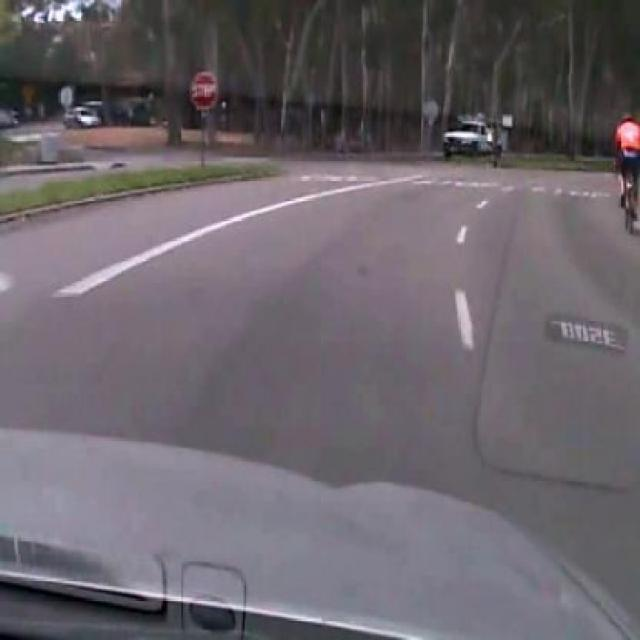traffic_sign: (188, 72, 222, 114)
